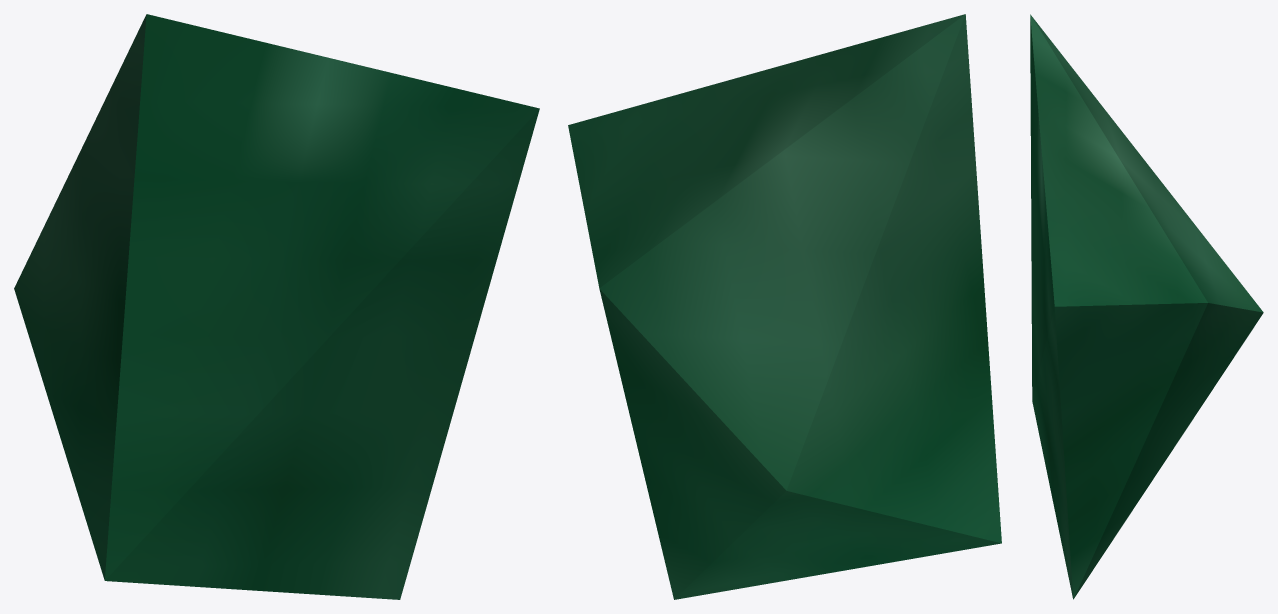
The picture shows the model from 3 angles, left to right: view 1: azimuth 30°, elevation 25°; view 2: azimuth 150°, elevation 25°; view 3: azimuth 270°, elevation 25°; orthographic projection. The views are drawn at different scales.
Size of the model in its own units: 0.0201 by 0.0288 by 0.0126.
1 material, 1 textured.
